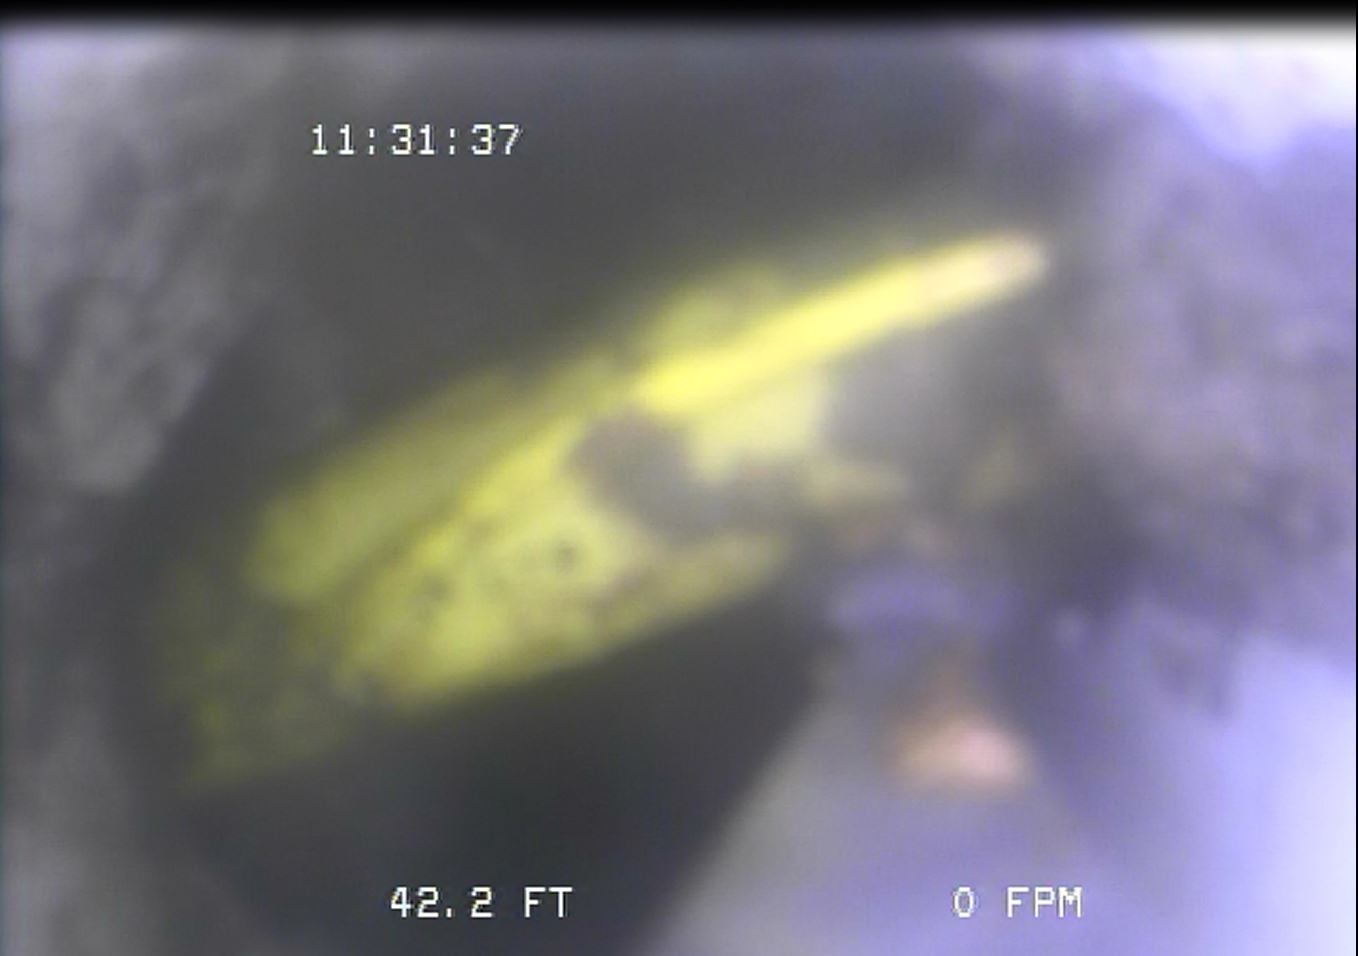cb: (123, 218, 1131, 731)
